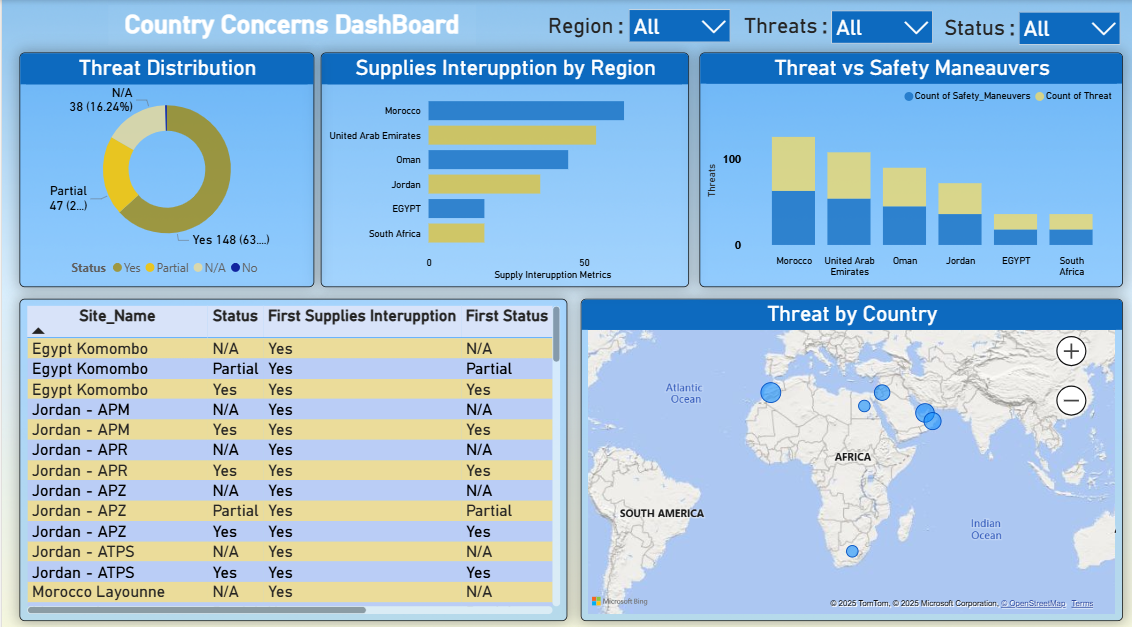

This screenshot's page, from the dashboard's own definition file:
{"tool":"powerbi","page":{"name":"Sheet#1","canvas":[1280,720],"ordinal":0},"visuals":[{"type":"map","title":"Threat by Country","fields":{"Category":["Threat-Heat Map.Country"],"Size":["CountNonNull(Threat-Heat Map.Threat)"]},"box":[654.9,338.8,613.2,364.8],"z":0},{"type":"barChart","title":"Supplies Interupption by Region","fields":{"Y":["CountNonNull(Threat-Heat Map.Supplies Interupption)"],"Category":["Threat-Heat Map.Country"]},"box":[361.3,59.1,416.9,265.8],"z":1000},{"type":"columnChart","title":"Threat vs Safety Maneauvers","fields":{"Y":["CountNonNull(Threat-Heat Map.Safety_Maneuvers)","CountNonNull(Threat-Heat Map.Threat)"],"Category":["Threat-Heat Map.Country"]},"box":[788.7,59.1,479.5,265.8],"z":2000},{"type":"tableEx","fields":{"Values":["Threat-Heat Map.Site_Name","Threat-Heat Map.Status","Min(Threat-Heat Map.Supplies Interupption)","Min(Threat-Heat Map.Status)","Min(Threat-Heat Map.Threat)"]},"box":[19.1,338.8,620.2,364.8],"z":3000},{"type":"donutChart","title":"Threat Distribution","fields":{"Category":["Threat-Heat Map.Status"],"Series":["Threat-Heat Map.Status"],"Y":["CountNonNull(Threat-Heat Map.Threat)"]},"box":[19.1,59.1,333.6,265.8],"z":4000},{"type":"slicer","title":"Status","fields":{"Values":["Threat-Heat Map.Status"]},"box":[1139.6,3.5,135.5,62.5],"z":5000},{"type":"slicer","fields":{"Values":["Threat-Heat Map.Country"]},"box":[698.4,0,135.5,52.1],"z":6000},{"type":"slicer","fields":{"Values":["Threat-Heat Map.Threat"]},"box":[927.7,1.7,135.5,62.5],"z":7000},{"type":"textbox","box":[1047.6,12.2,118.1,43.4],"z":8000},{"type":"textbox","box":[826.9,10.4,118.1,43.4],"z":9000},{"type":"textbox","box":[601.1,10.4,118.1,43.4],"z":10000},{"type":"textbox","box":[120.2,5.7,415.9,45.3],"z":11000}]}

Visuals, with their boxes in screenshot pixels (x1, y1, x2, y2), scaled from the page's 1280x720 canvas onto the 1132x627 screenshot:
"Threat by Country" map: <box>579,295,1121,613</box>
"Supplies Interupption by Region" barChart: <box>320,51,688,283</box>
"Threat vs Safety Maneauvers" columnChart: <box>698,51,1122,283</box>
tableEx - Threat-Heat Map.Site_Name x Threat-Heat Map.Status: <box>17,295,565,613</box>
"Threat Distribution" donutChart: <box>17,51,312,283</box>
"Status" slicer: <box>1008,3,1128,57</box>
slicer - Threat-Heat Map.Country: <box>618,0,737,45</box>
slicer - Threat-Heat Map.Threat: <box>820,1,940,56</box>
textbox: <box>926,11,1031,48</box>
textbox: <box>731,9,836,47</box>
textbox: <box>532,9,636,47</box>
textbox: <box>106,5,474,44</box>
